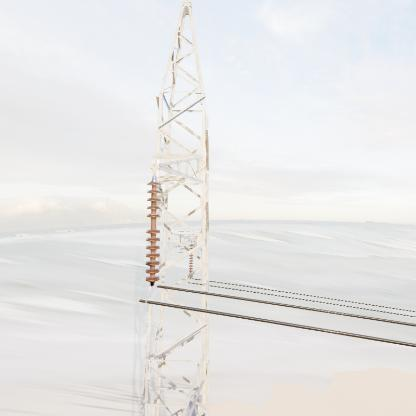insulator: (143, 180, 167, 291)
